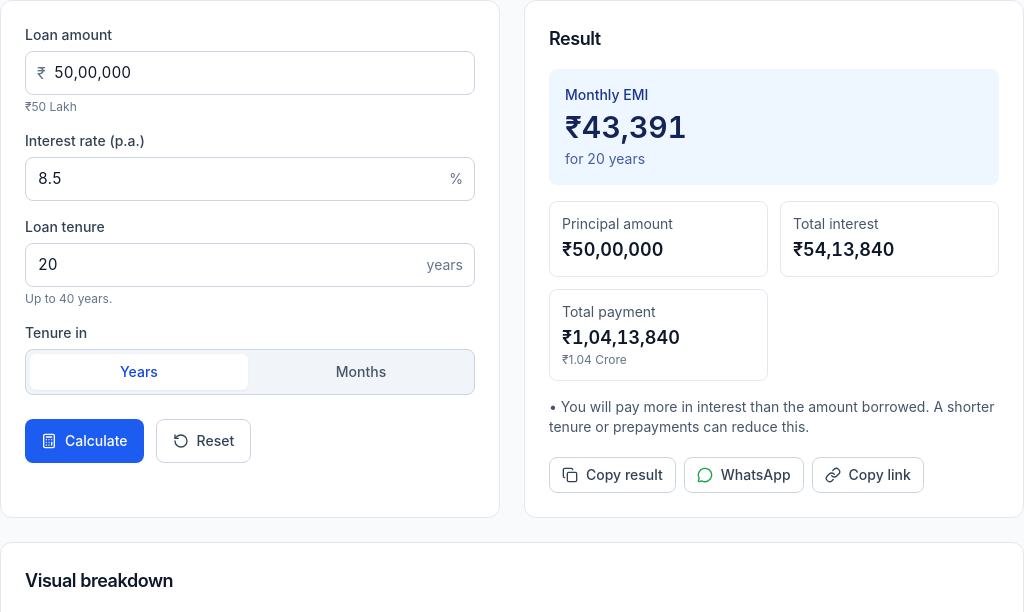
FormTool (EMI calculator) › shows human-readable validation errors and never NaN
Replace the text in the field labelled "Interest rate (p.a.)" with "abc" at (250, 179), box [25, 157, 475, 201]
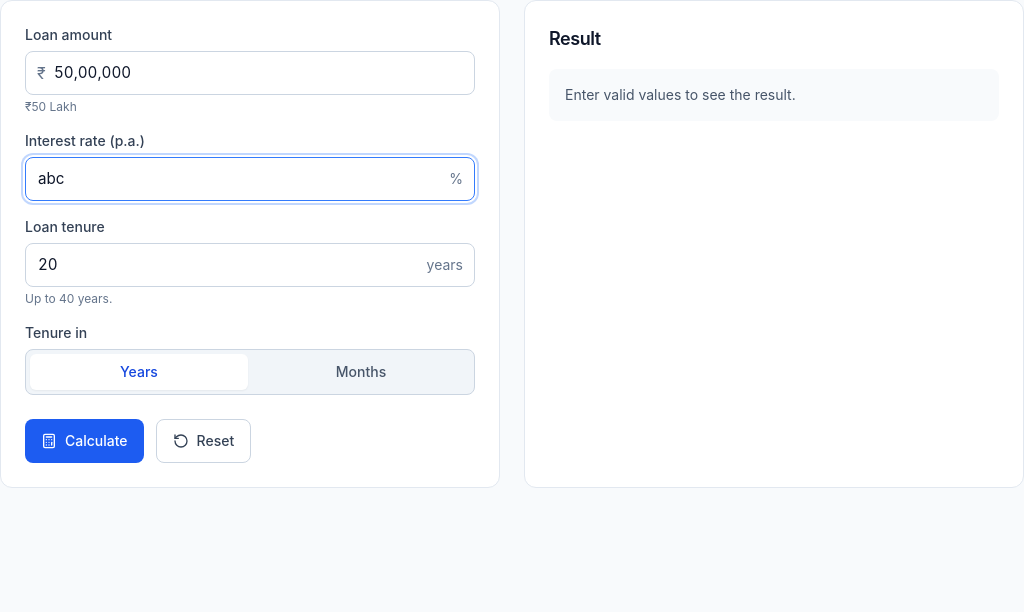
Click the button "Calculate" at (84, 441), box [25, 419, 144, 463]
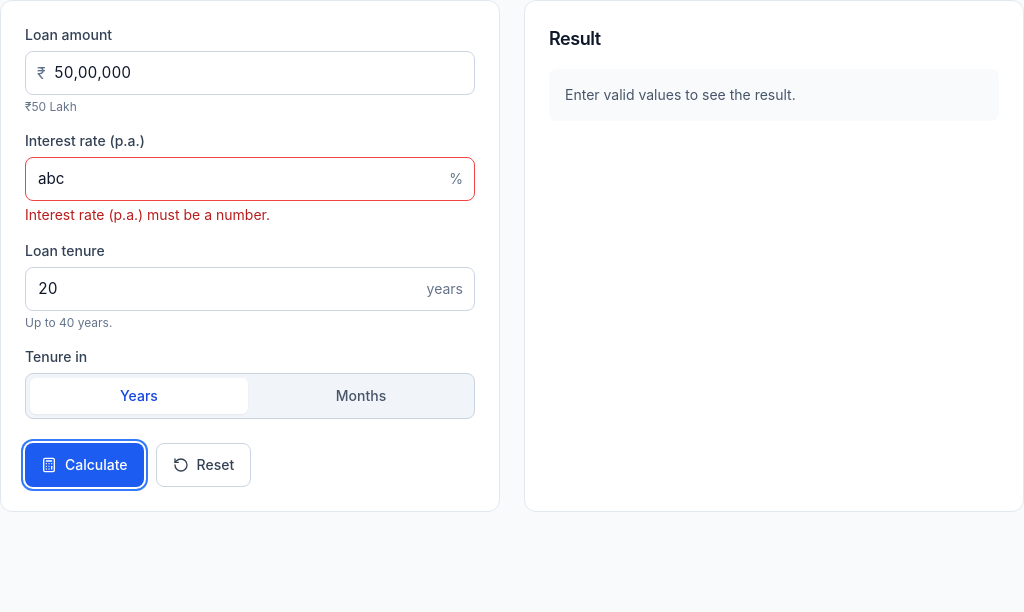
Expected: the message reads "Interest rate (p.a.) must be a number.", [25, 206, 270, 223]
Replace the text in the field labelled "Interest rate (p.a.)" with "-5" at (250, 179), box [25, 157, 475, 201]
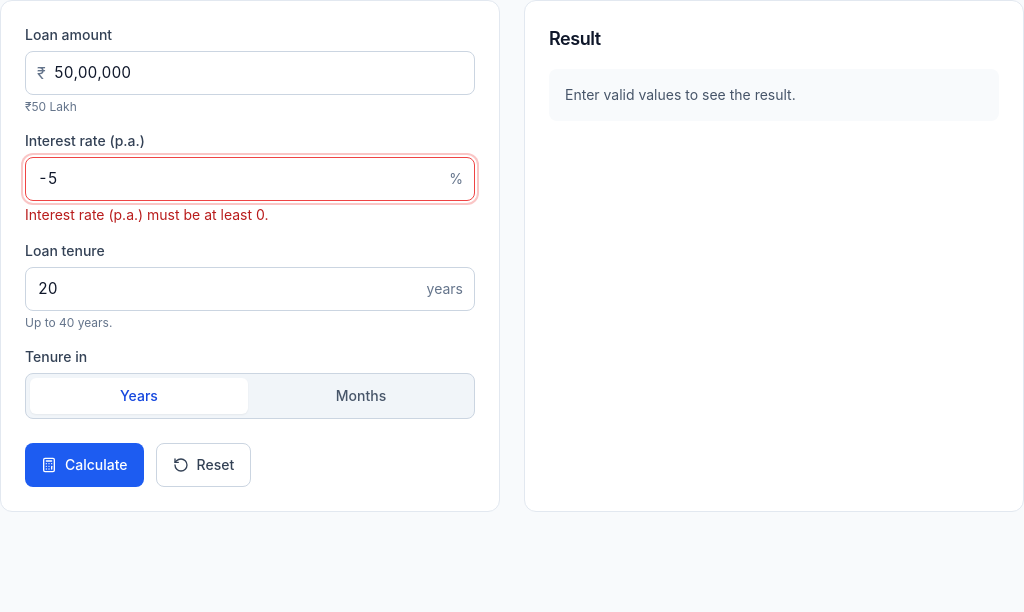
Expected: the message shows "must be at least 0", [25, 206, 268, 223]
